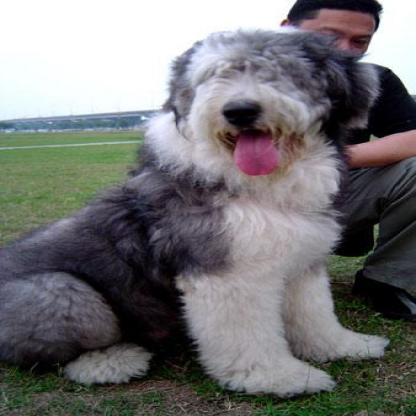Old_English_sheepdog: (1, 25, 383, 392)
